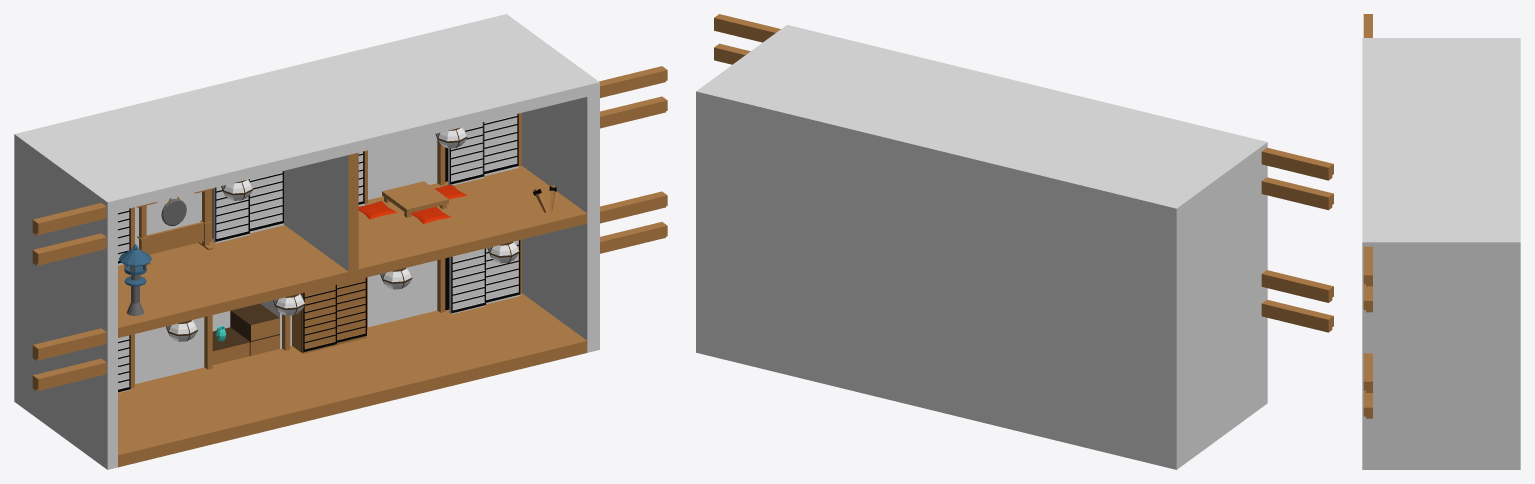
Rendered from rolom.fbx.
3 renders of one model, left to right at view 1: azimuth 30°, elevation 25°; view 2: azimuth 150°, elevation 25°; view 3: azimuth 270°, elevation 25°, orthographic. The views are drawn at different scales.
Parts seen in each view (by area): view 1: Cube.023, Cube.022, Cube.011, Cube.010, Cube.013, Cube.003, Cube.015, Cube.007, Cube.002, Cube.006, Cube.016, Circle (+2 smaller); view 2: Cube.023, Cube.022; view 3: Cube.023, Cube.022.
Boxes of the visible parts, box(x1,y1,x2,y2) form: Cube.023: box(14, 14, 599, 469); Cube.022: box(32, 66, 667, 391); Cube.011: box(445, 240, 520, 314); Cube.010: box(445, 113, 518, 185); Cube.013: box(212, 171, 283, 243); Cube.003: box(130, 113, 521, 388); Cube.015: box(136, 188, 214, 265); Cube.007: box(301, 285, 336, 353); Cube.002: box(166, 241, 519, 341); Cube.006: box(337, 277, 366, 344); Cube.016: box(382, 181, 448, 217); Circle: box(119, 244, 151, 315); Cube.023: box(696, 25, 1267, 469); Cube.022: box(714, 14, 1333, 332); Cube.023: box(1362, 38, 1520, 469); Cube.022: box(1363, 14, 1372, 418).
Bounding box in the file's own units: 1963 × 797 × 504.
